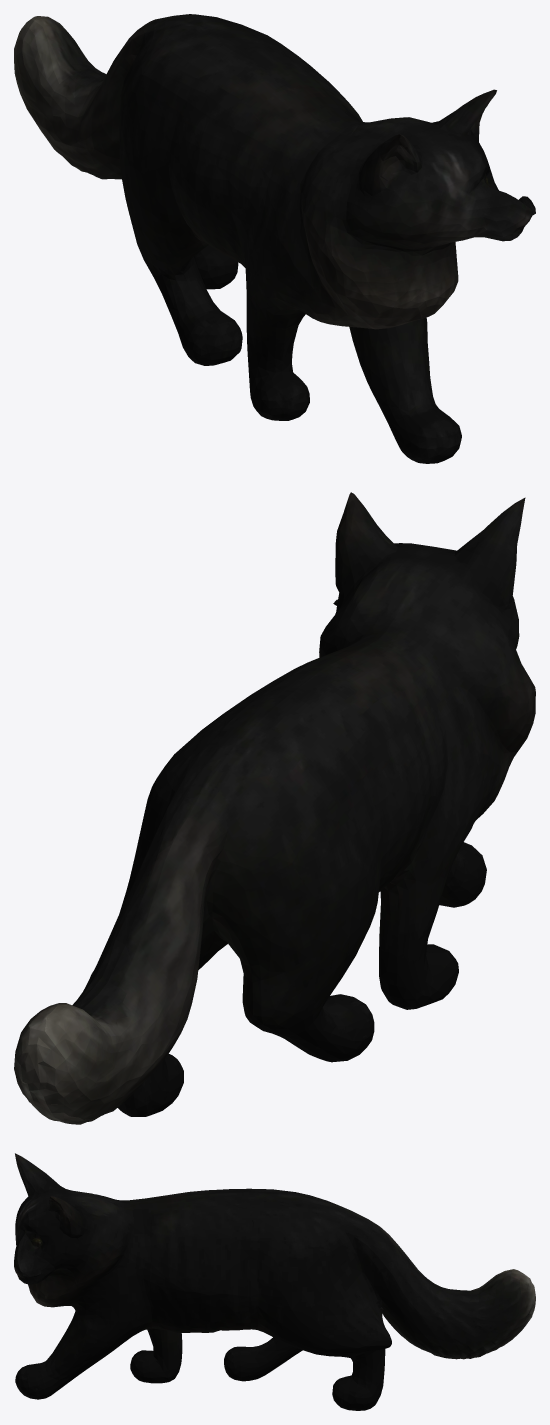
The picture shows the model from 3 angles, top to bottom: view 1: azimuth 30°, elevation 25°; view 2: azimuth 150°, elevation 25°; view 3: azimuth 270°, elevation 25°; orthographic projection. The views are drawn at different scales.
Visible parts, largest first — view 1: geometry_0; view 2: geometry_0; view 3: geometry_0.
Boxes of the visible parts, <box> form: geometry_0: <box>14,14,535,463</box>; geometry_0: <box>14,492,535,1124</box>; geometry_0: <box>14,1153,535,1410</box>.
Size of the model in its own units: 0.3016 by 0.4948 by 0.9983.
Materials: 1 (1 with a texture image).
